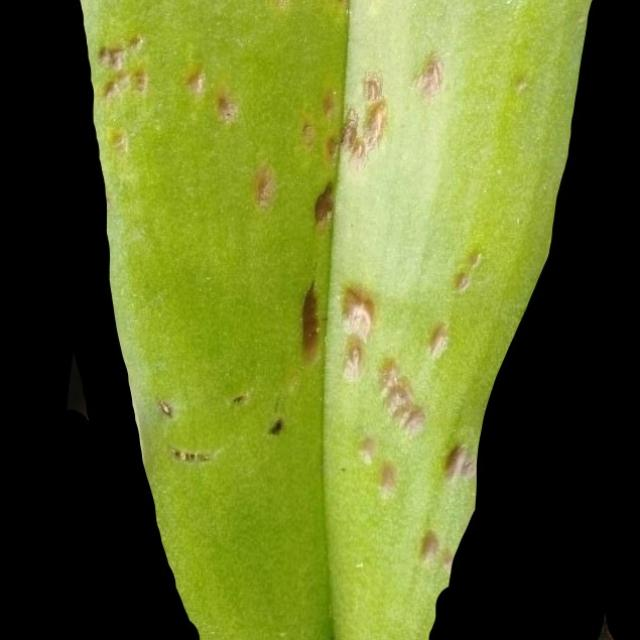mite: (149, 381, 477, 487), (151, 385, 291, 467), (152, 393, 214, 467), (152, 388, 252, 420), (162, 437, 218, 472), (440, 440, 476, 481), (167, 443, 212, 465), (96, 42, 125, 70), (263, 410, 289, 441), (375, 458, 398, 491), (107, 126, 130, 155), (215, 94, 238, 122), (227, 388, 250, 410), (452, 268, 472, 292), (155, 398, 173, 418), (267, 415, 284, 436), (230, 392, 246, 406)
spots: (77, 1, 594, 636)
